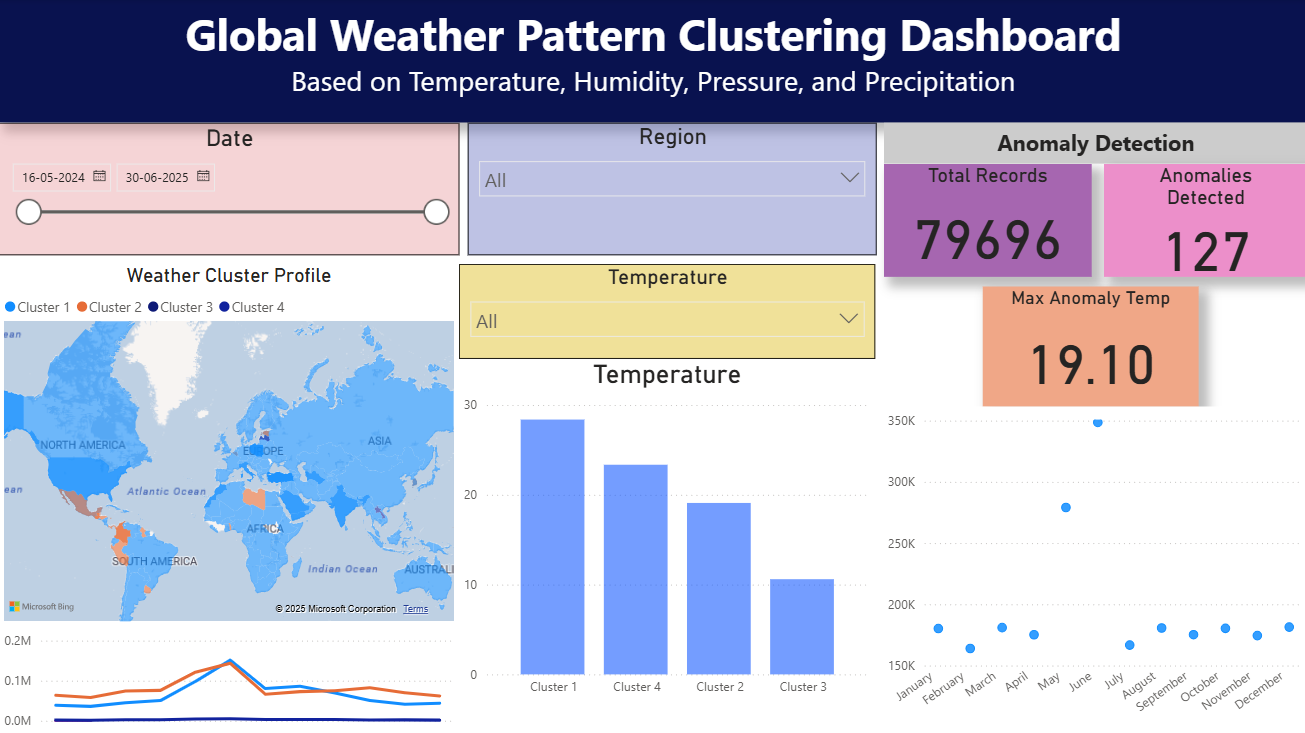

What the dashboard file says about the page in this screenshot:
{"tool":"powerbi","page":{"name":"Page 1","canvas":[1280,720],"ordinal":0},"visuals":[{"type":"textbox","box":[0,0,1280.3,121.1],"z":0},{"type":"filledMap","title":"Weather Cluster Profile","fields":{"Series":["ClusteredWeatherData.ClusterLabel"],"Category":["ClusteredWeatherData.country"],"Y":["Avg(ClusteredWeatherData.latitude)"],"X":["Avg(ClusteredWeatherData.longitude)"]},"box":[0,259.2,450,354.6],"z":1},{"type":"clusteredColumnChart","title":"Temperature","fields":{"Category":["ClusteredWeatherData.ClusterLabel"],"Y":["Avg(ClusteredWeatherData.temperature_celsius)"]},"box":[450,352.2,407.2,338.7],"z":2},{"type":"slicer","title":"Temperature","fields":{"Values":["ClusteredWeatherData.temperature_celsius"]},"box":[450,259.2,407.2,92.9],"z":3},{"type":"card","title":"Total Records","fields":{"Values":["ClusteredWeatherData.TotalRecords"]},"box":[865.8,161.4,203,110.1],"z":5},{"type":"textbox","box":[865.8,121.1,414.5,40.4],"z":6},{"type":"card","title":"Anomalies Detected","fields":{"Values":["ClusteredWeatherData.AnomalyCount"]},"box":[1081,161.4,199.3,110.1],"z":7},{"type":"lineChart","fields":{"Y":["Sum(ClusteredWeatherData.temperature_celsius)"],"Category":["ClusteredWeatherData.last_update_Date.Variation.Date Hierarchy.Year","ClusteredWeatherData.last_update_Date.Variation.Date Hierarchy.Quarter","ClusteredWeatherData.last_update_Date.Variation.Date Hierarchy.Month","ClusteredWeatherData.last_update_Date.Variation.Date Hierarchy.Day"],"Series":["ClusteredWeatherData.ClusterLabel"]},"box":[0,613.9,450,106.4],"z":8},{"type":"card","title":"Max Anomaly Temp","fields":{"Values":["ClusteredWeatherData.MaxAnomalyTemperature"]},"box":[962.4,281.3,211.6,117.4],"z":9},{"type":"scatterChart","fields":{"X":["ClusteredWeatherData.last_update_Date.Variation.Date Hierarchy.Year","ClusteredWeatherData.last_update_Date.Variation.Date Hierarchy.Quarter","ClusteredWeatherData.last_update_Date.Variation.Date Hierarchy.Month","ClusteredWeatherData.last_update_Date.Variation.Date Hierarchy.Day"],"Y":["Sum(ClusteredWeatherData.pressure_in)"]},"box":[857.2,398.6,423.1,321.6],"z":10},{"type":"slicer","title":"Date","fields":{"Values":["ClusteredWeatherData.last_update_Date"]},"box":[0,121.1,450,129.6],"z":11},{"type":"slicer","title":"Region","fields":{"Values":["ClusteredWeatherData.country"]},"box":[458.6,121.1,399.9,129.6],"z":12}]}

Visuals, with their boxes in screenshot pixels (x1, y1, x2, y2), scaled from the page's 1280x720 canvas onto the 1305x733 screenshot:
textbox: bbox(0, 0, 1304, 123)
"Weather Cluster Profile" filledMap: bbox(0, 264, 459, 625)
"Temperature" clusteredColumnChart: bbox(459, 359, 874, 703)
"Temperature" slicer: bbox(459, 264, 874, 358)
"Total Records" card: bbox(883, 164, 1090, 276)
textbox: bbox(883, 123, 1304, 164)
"Anomalies Detected" card: bbox(1102, 164, 1304, 276)
lineChart - Sum(ClusteredWeatherData.temperature_celsius) x ClusteredWeatherData.last_update_Date.Variation.Date Hierarchy.Year: bbox(0, 625, 459, 732)
"Max Anomaly Temp" card: bbox(981, 286, 1197, 406)
scatterChart - ClusteredWeatherData.last_update_Date.Variation.Date Hierarchy.Year x ClusteredWeatherData.last_update_Date.Variation.Date Hierarchy.Quarter: bbox(874, 406, 1304, 732)
"Date" slicer: bbox(0, 123, 459, 255)
"Region" slicer: bbox(468, 123, 875, 255)
